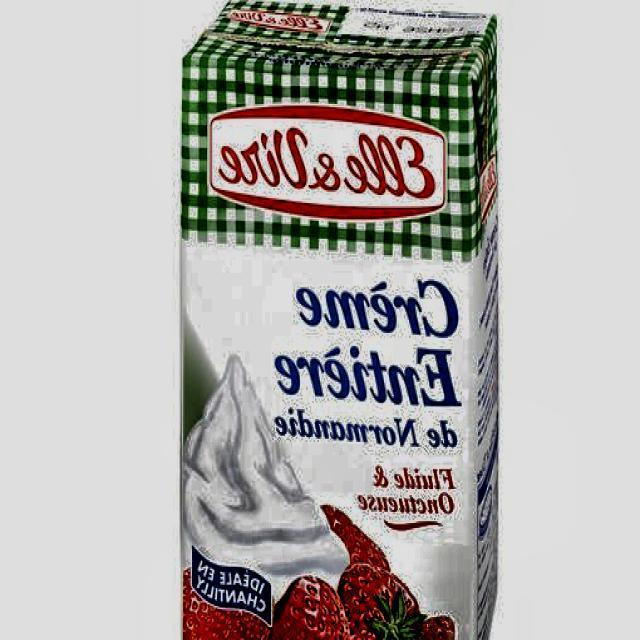cardboard: (179, 0, 502, 640)
